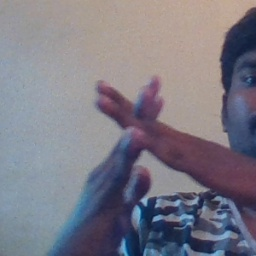W: (71, 67, 219, 217)
